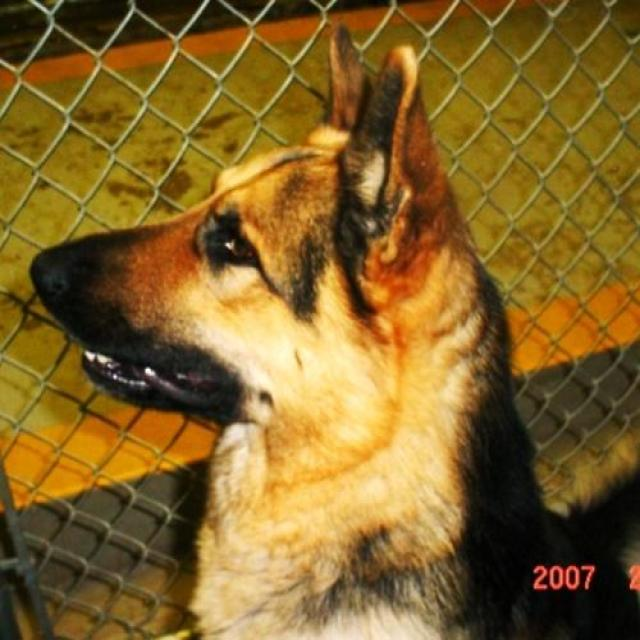dogs: (32, 24, 640, 640)
